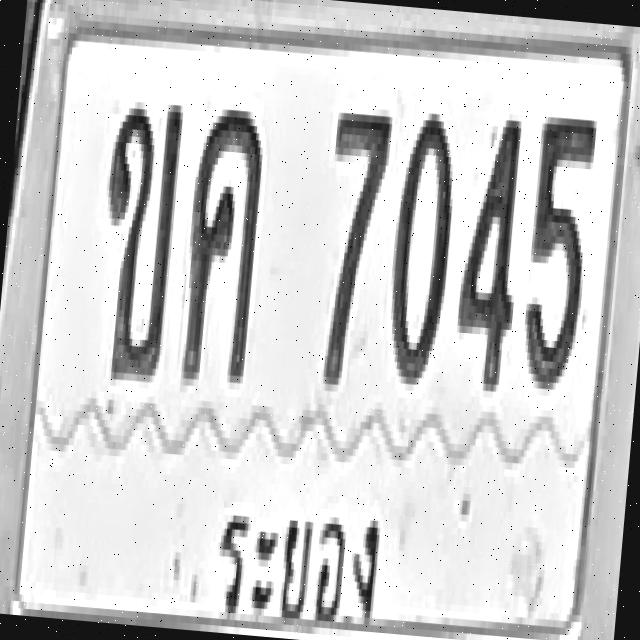0: (382, 104, 460, 386)
11KhorKhai: (90, 92, 184, 382)
13KhorKhwai: (176, 100, 268, 383)
4: (450, 110, 528, 392)
5: (518, 109, 598, 391)
7: (312, 105, 393, 387)
Rayong: (202, 473, 394, 640)
